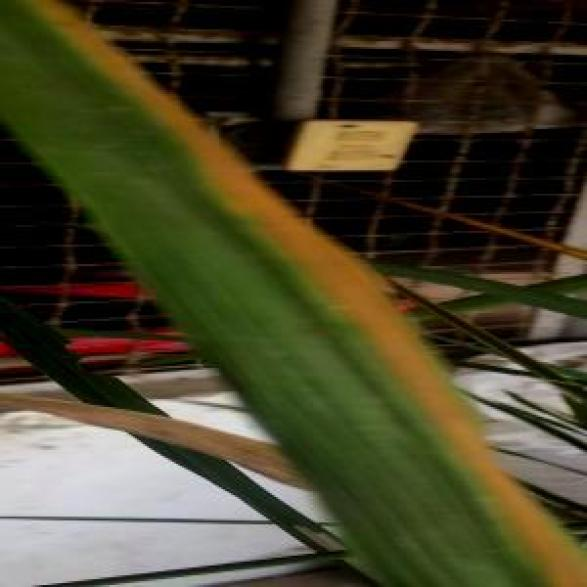Bacteria_Leaf_Blight: (227, 294, 491, 583)
